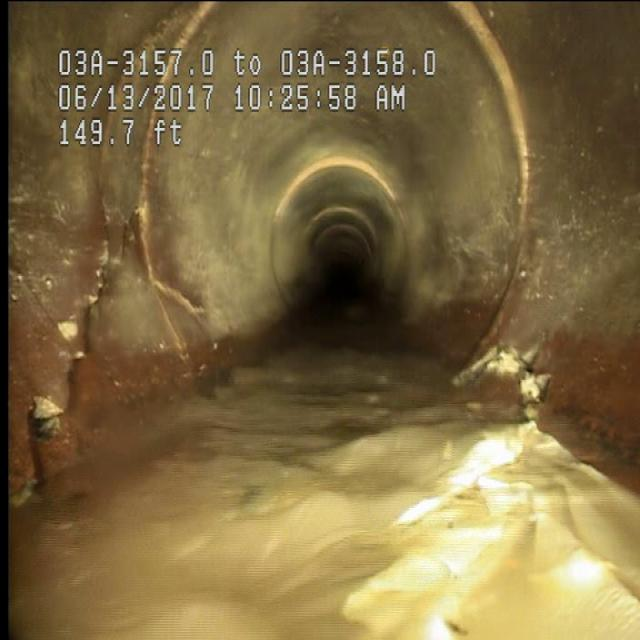Fracture: (35, 183, 184, 487)
